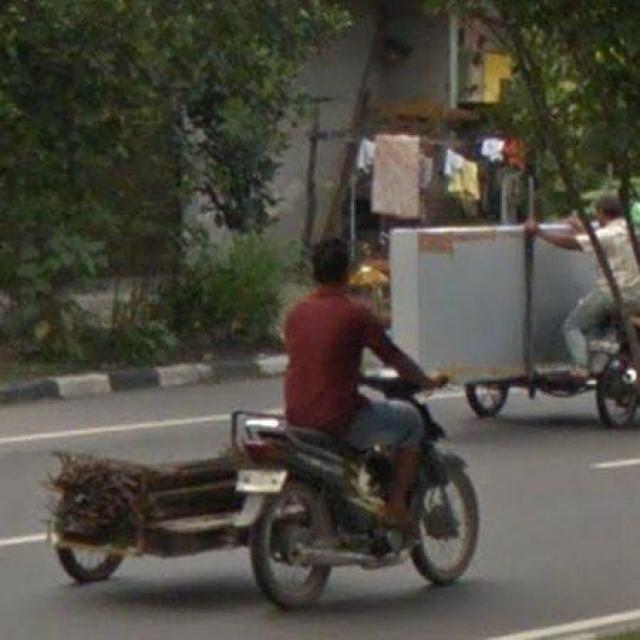bicycle: (225, 370, 480, 614)
